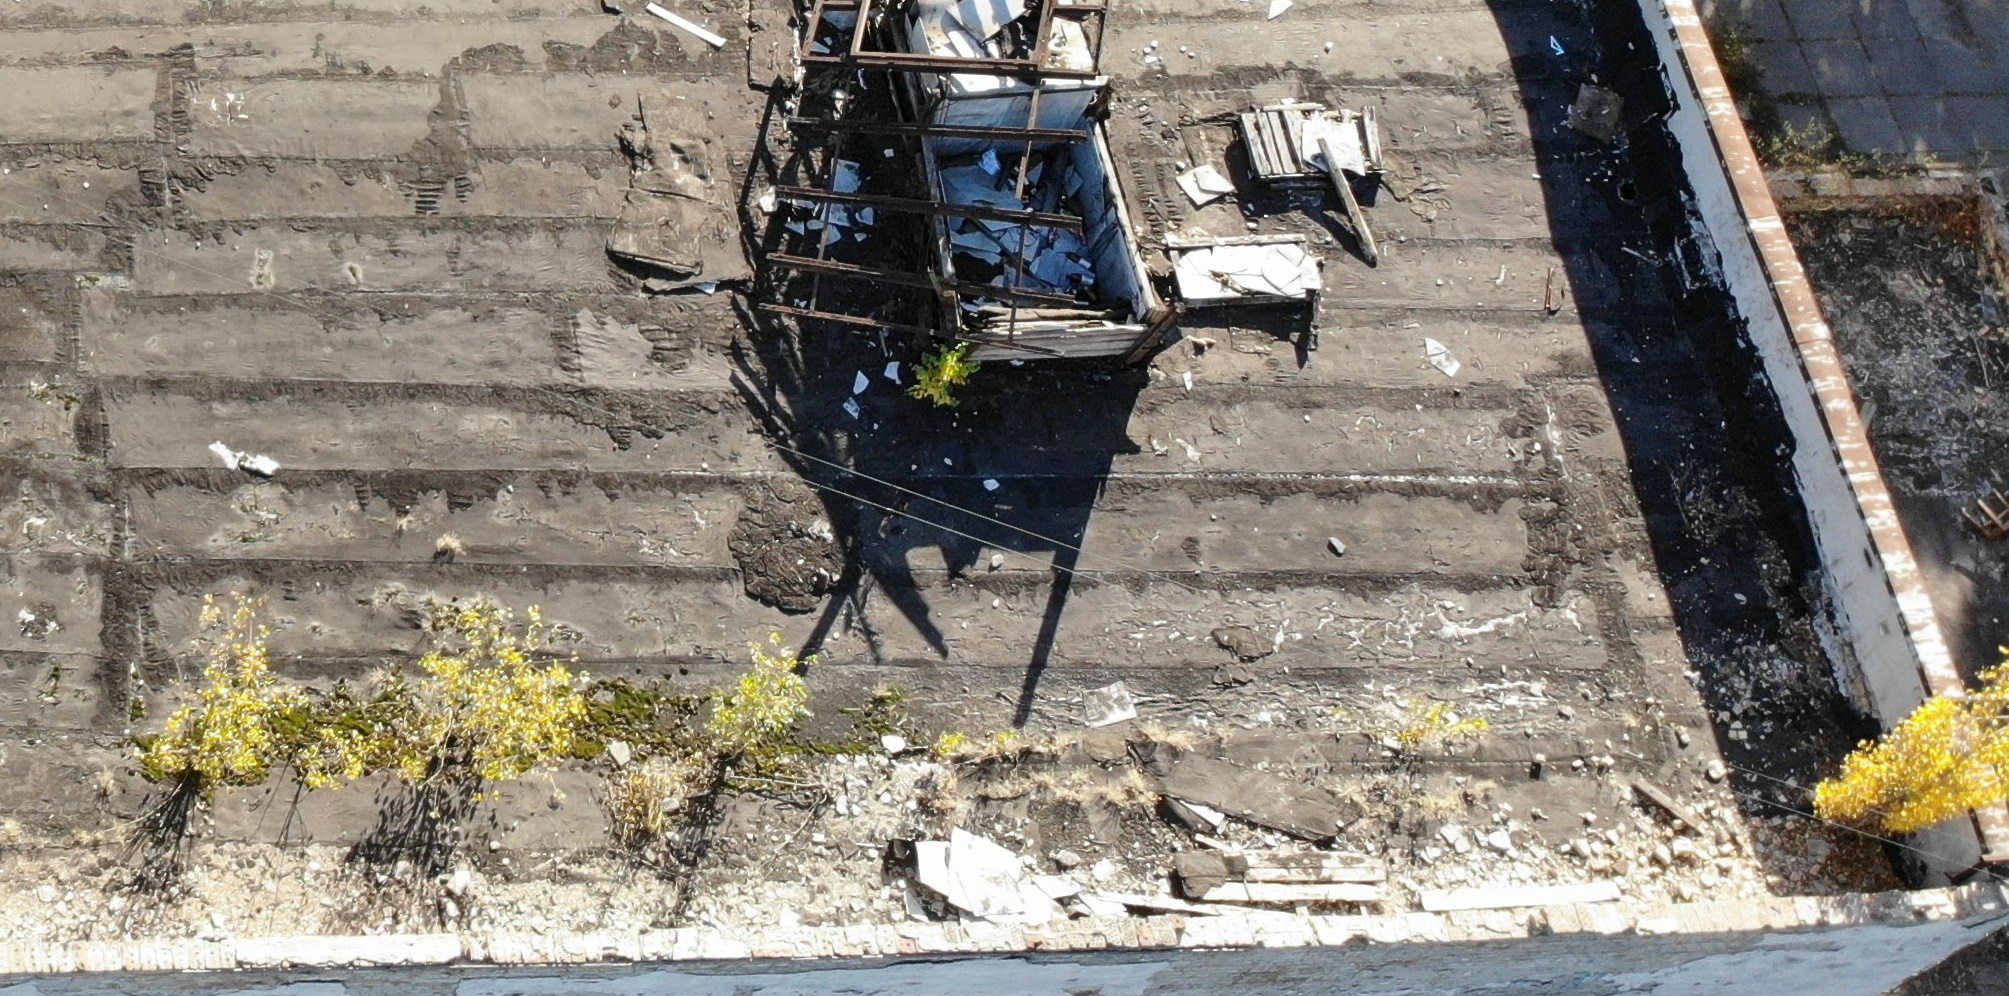tree: (393, 523, 611, 847), (97, 558, 345, 838), (1753, 593, 2003, 870), (691, 602, 851, 774), (1379, 693, 1498, 815), (899, 338, 989, 438)
